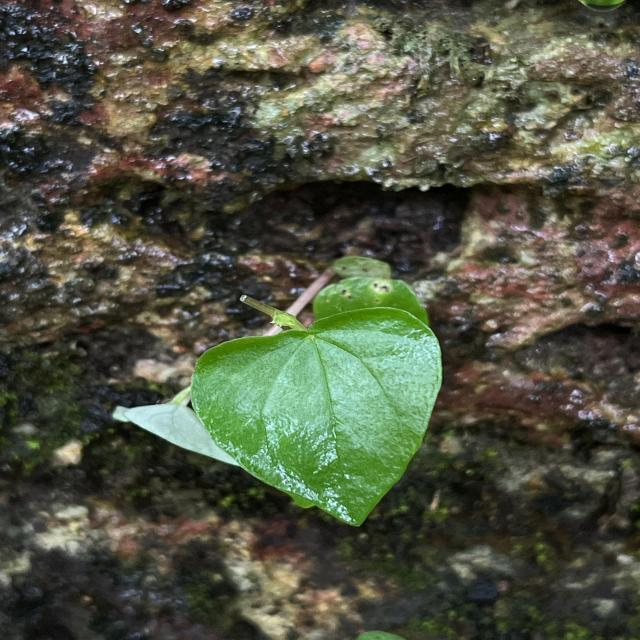Peperomia pellucida: (190, 304, 446, 530)
